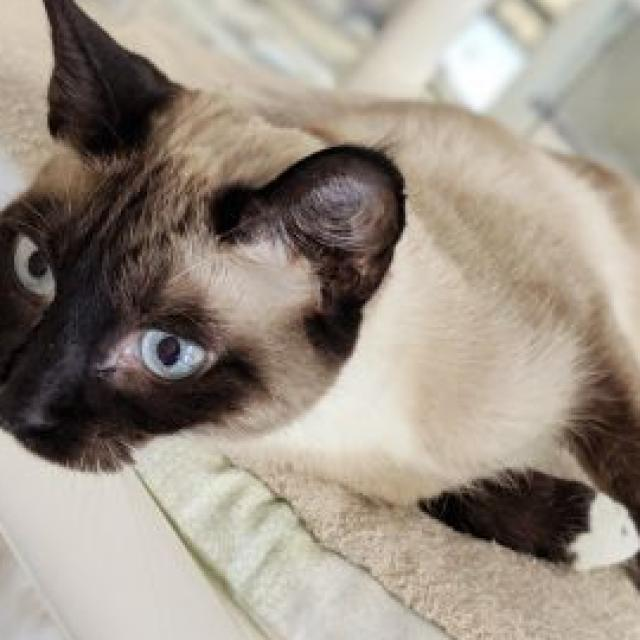Siamese: (0, 0, 640, 576)
